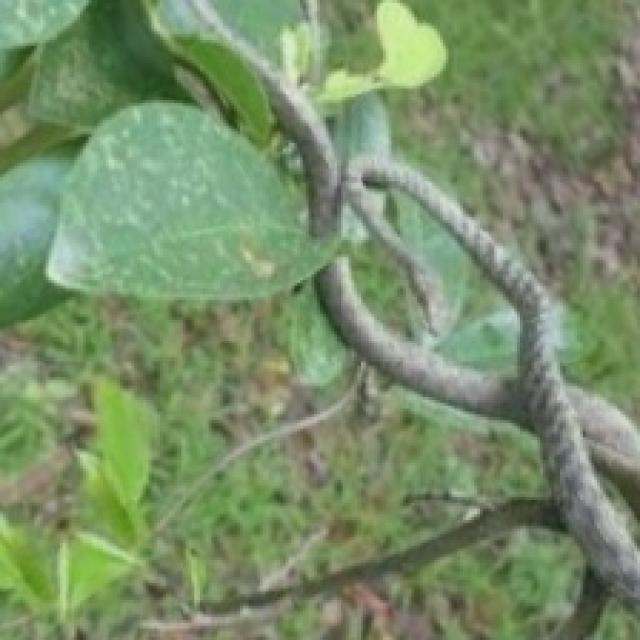philippine whip snake: (189, 0, 637, 603), (346, 157, 637, 603), (314, 257, 514, 411), (317, 257, 514, 411)
